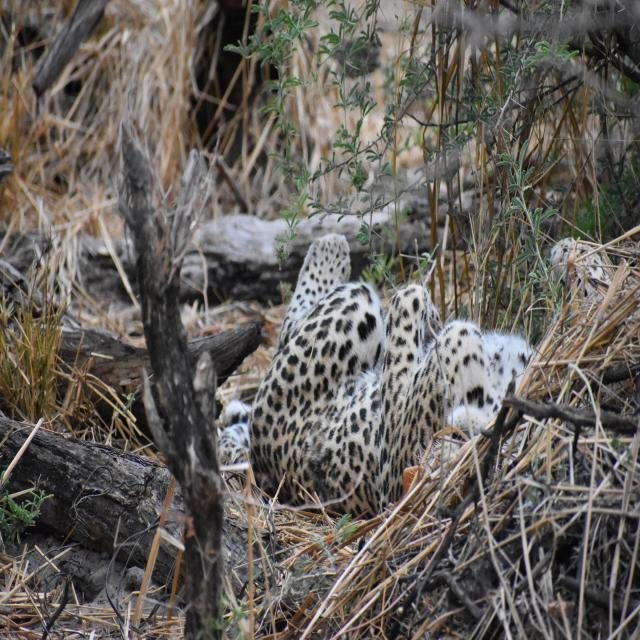Leopard: (219, 232, 541, 518)
